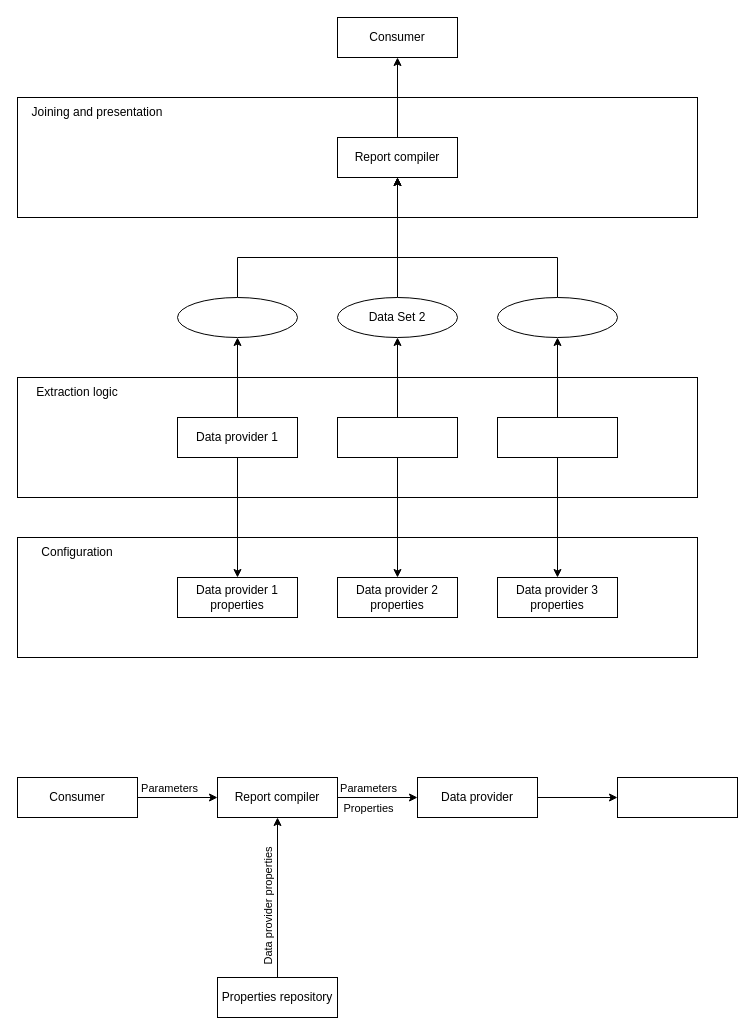
The diagram is 755 pixels wide and 1035 high, and some of its shapes have lost their labels. Each missing label, with the centre of its shape:
Data provider 2: pixel 397 437
Data provider 3: pixel 557 437
Data provider backend: pixel 677 797
Data Set 1: pixel 237 317
Data Set 3: pixel 557 317
